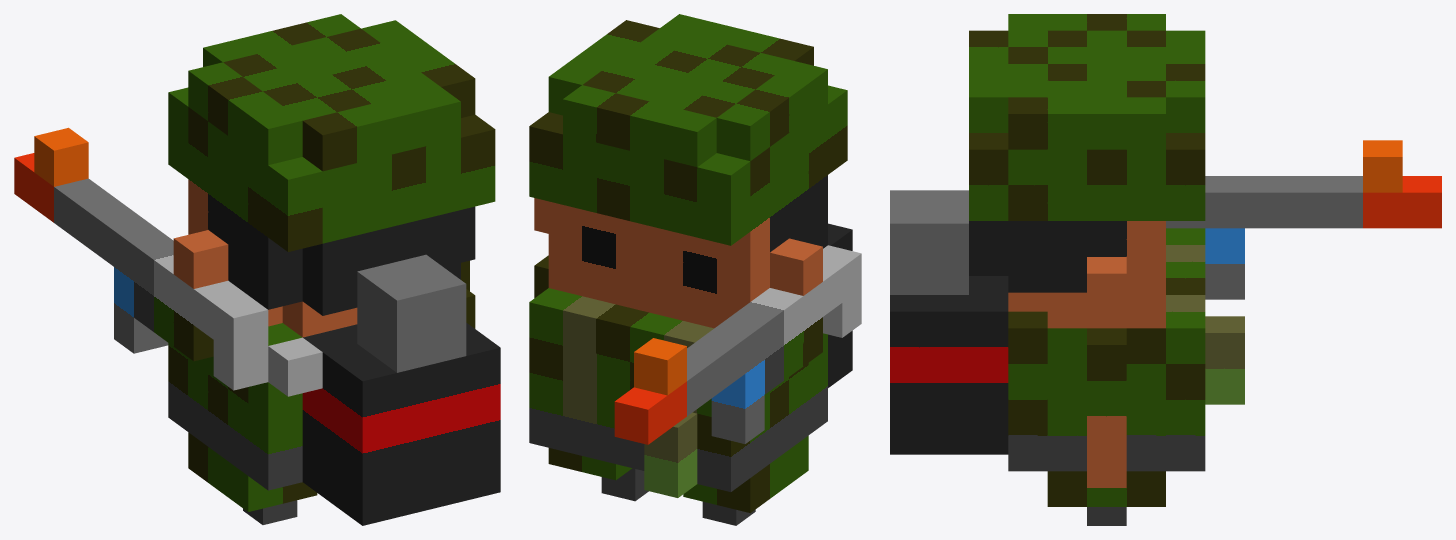
File: chr_army4.dae
3 renders of one model, left to right at view 1: azimuth 30°, elevation 25°; view 2: azimuth 150°, elevation 25°; view 3: azimuth 270°, elevation 25°, orthographic. The views are drawn at different scales.
Parts seen in each view (by area): view 1: chr_army4; view 2: chr_army4; view 3: chr_army4.
Boxes of the visible parts, x1,y1,x2,y2 form: chr_army4: (14, 14, 500, 525); chr_army4: (529, 14, 861, 525); chr_army4: (890, 14, 1441, 525).
Bounding box in the file's own units: 0.8 × 1.4 × 1.2.
